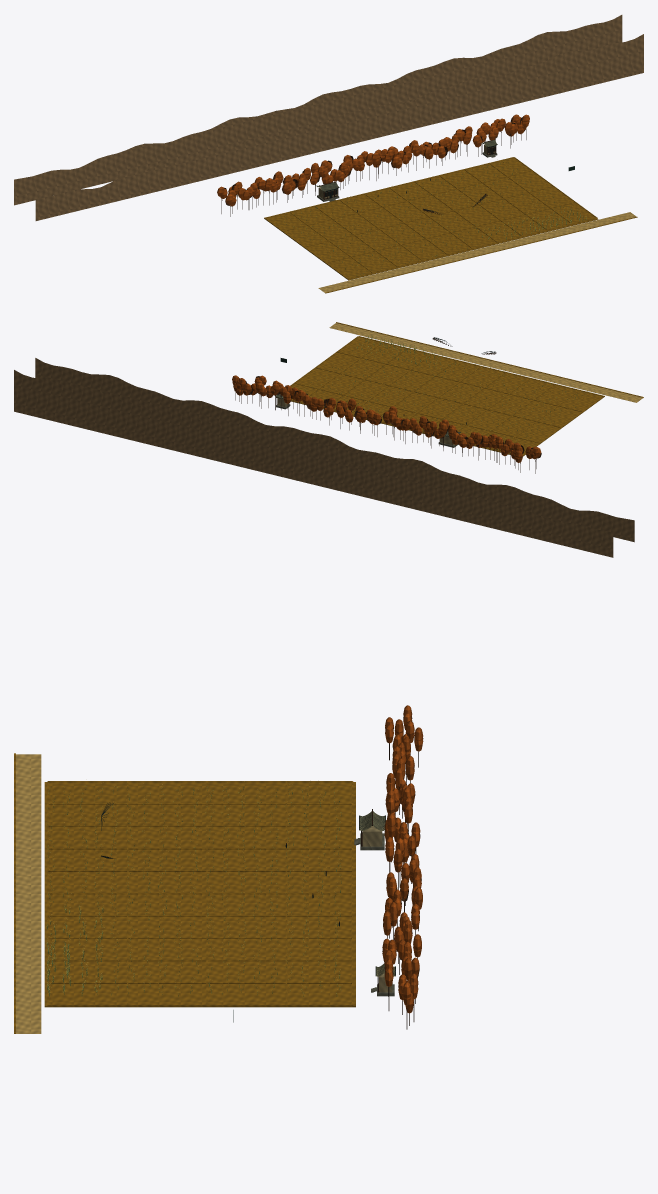
Rendered from JingXi_Aligned_Autumn.glb.
3 renders of one model, top to bottom at view 1: azimuth 30°, elevation 25°; view 2: azimuth 150°, elevation 25°; view 3: azimuth 270°, elevation 25°, orthographic. The views are drawn at different scales.
Visible parts, largest first — view 1: Autumn_MountainRidge_mountain, Autumn_FieldEarth_earth, Autumn_TreeCrowns_crown, Autumn_YuquanCanal_water, Autumn_CrossBanks_earth, Autumn_FieldBanks_earth, Autumn_TreeTrunks_wood, Autumn_NearBank_earth, Autumn_Rice_Culm_leaf, Autumn_Rice_Leaf_leaf, Autumn_TreeCrowns_leaf; view 2: Autumn_MountainRidge_mountain, Autumn_FieldEarth_earth, Autumn_TreeCrowns_crown, Autumn_YuquanCanal_water, Autumn_CrossBanks_earth, Autumn_FieldBanks_earth, Autumn_TreeTrunks_wood, Autumn_NearBank_earth, Autumn_Rice_Leaf_leaf, Autumn_TreeCrowns_leaf, Autumn_Rice_Culm_leaf; view 3: Autumn_FieldEarth_earth, Autumn_TreeCrowns_crown, Autumn_YuquanCanal_water, Autumn_FieldBanks_earth, Autumn_CrossBanks_earth, Autumn_Rice_Leaf_leaf, Autumn_Rice_Culm_leaf.
Part boxes in pixels (<box>): Autumn_MountainRidge_mountain: <box>14,15,643,220</box>; Autumn_FieldEarth_earth: <box>264,157,598,280</box>; Autumn_TreeCrowns_crown: <box>217,114,529,206</box>; Autumn_YuquanCanal_water: <box>318,212,636,292</box>; Autumn_CrossBanks_earth: <box>265,157,596,278</box>; Autumn_FieldBanks_earth: <box>264,157,597,279</box>; Autumn_TreeTrunks_wood: <box>221,129,526,216</box>; Autumn_NearBank_earth: <box>325,217,637,293</box>; Autumn_Rice_Culm_leaf: <box>284,162,585,275</box>; Autumn_Rice_Leaf_leaf: <box>281,161,586,273</box>; Autumn_TreeCrowns_leaf: <box>224,117,524,205</box>; Autumn_MountainRidge_mountain: <box>14,358,634,557</box>; Autumn_FieldEarth_earth: <box>276,336,604,456</box>; Autumn_TreeCrowns_crown: <box>232,375,541,462</box>; Autumn_YuquanCanal_water: <box>329,323,643,402</box>; Autumn_CrossBanks_earth: <box>291,336,603,453</box>; Autumn_FieldBanks_earth: <box>290,336,604,455</box>; Autumn_TreeTrunks_wood: <box>235,390,536,473</box>; Autumn_NearBank_earth: <box>336,322,643,397</box>; Autumn_Rice_Leaf_leaf: <box>306,336,587,440</box>; Autumn_TreeCrowns_leaf: <box>235,376,541,458</box>; Autumn_Rice_Culm_leaf: <box>312,336,577,439</box>; Autumn_FieldEarth_earth: <box>44,782,355,1007</box>; Autumn_TreeCrowns_crown: <box>382,705,423,1013</box>; Autumn_YuquanCanal_water: <box>16,754,41,1033</box>; Autumn_FieldBanks_earth: <box>48,781,352,1006</box>; Autumn_CrossBanks_earth: <box>47,781,353,1005</box>; Autumn_Rice_Leaf_leaf: <box>46,786,341,994</box>; Autumn_Rice_Culm_leaf: <box>47,787,341,996</box>.
Bounding box in the file's own units: 195 × 13.26 × 95.15.
Materials: 16 (16 with a texture image).
